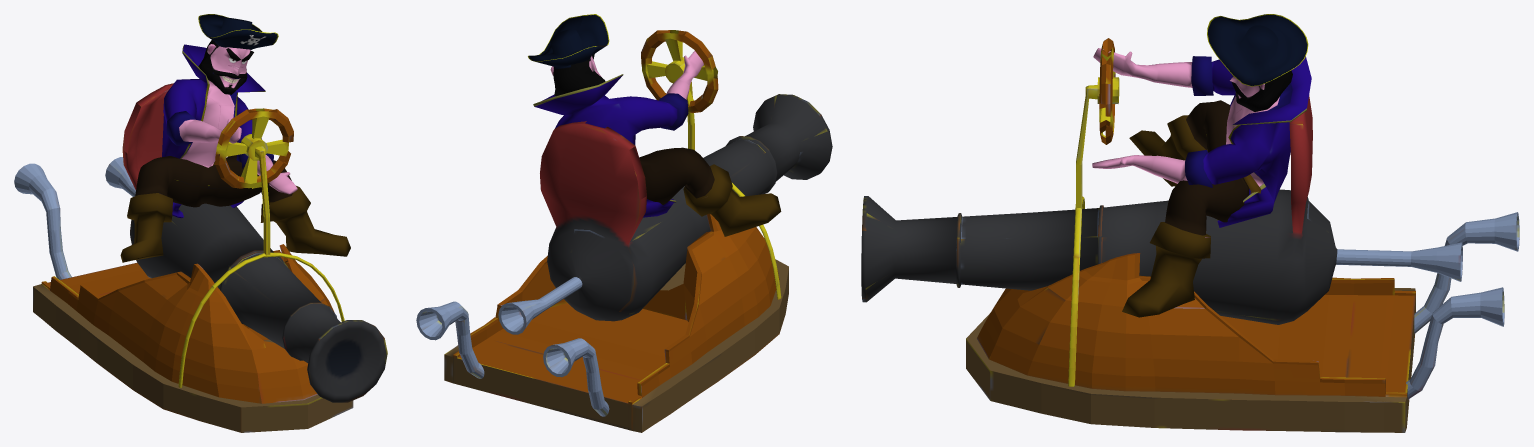
The model's file is pirataGiroDER_000398.obj.
The picture shows the model from 3 angles, left to right: view 1: azimuth 30°, elevation 25°; view 2: azimuth 150°, elevation 25°; view 3: azimuth 270°, elevation 25°; orthographic projection. The views are drawn at different scales.
Parts seen in each view (by area): view 1: carro_pirata, Pirata_PirataH; view 2: carro_pirata, Pirata_PirataH; view 3: carro_pirata, Pirata_PirataH.
Part boxes in pixels (x1,y1,x2,y2): carro_pirata: (14, 83, 387, 432); Pirata_PirataH: (120, 14, 350, 262); carro_pirata: (416, 30, 832, 432); Pirata_PirataH: (528, 14, 781, 236); carro_pirata: (861, 38, 1519, 432); Pirata_PirataH: (1092, 14, 1311, 317).
Bounding box in the file's own units: 5.68 × 7.58 × 12.1.
